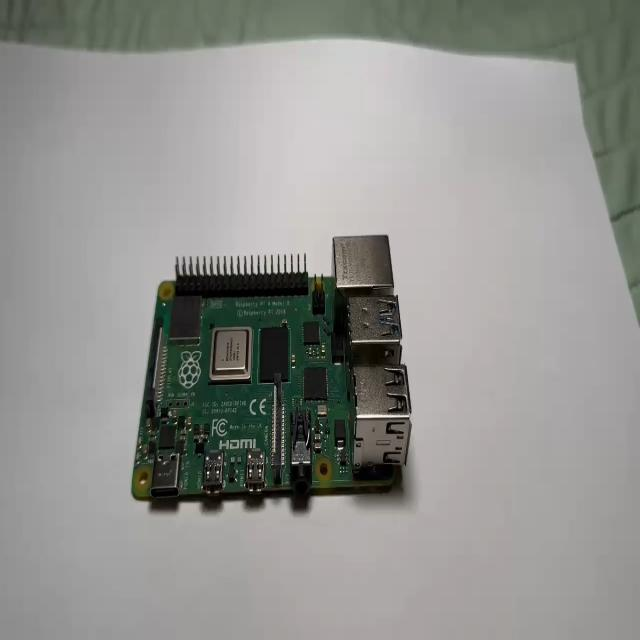CPU: (205, 321, 254, 385)
Ethernet: (330, 232, 398, 335)
GPIO: (174, 251, 311, 297)
RAM: (256, 320, 290, 386)
Raspberry: (130, 236, 414, 515)
micro-hdmi: (202, 451, 230, 502), (244, 448, 266, 495)
